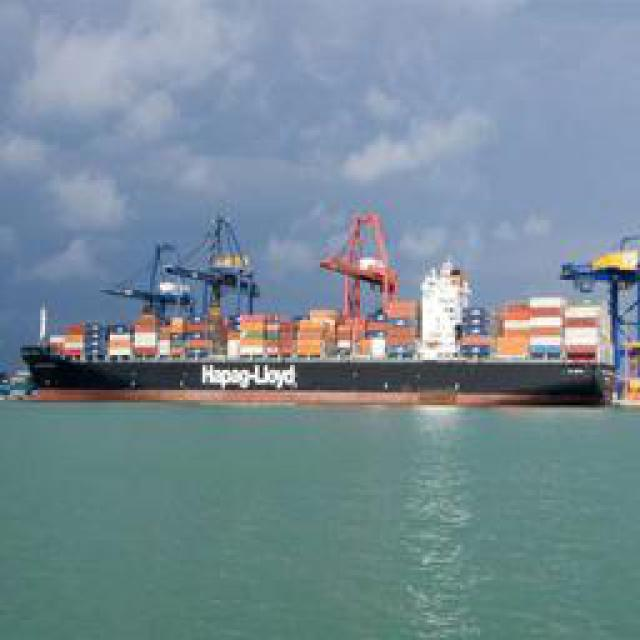Ship: (24, 216, 624, 406)
